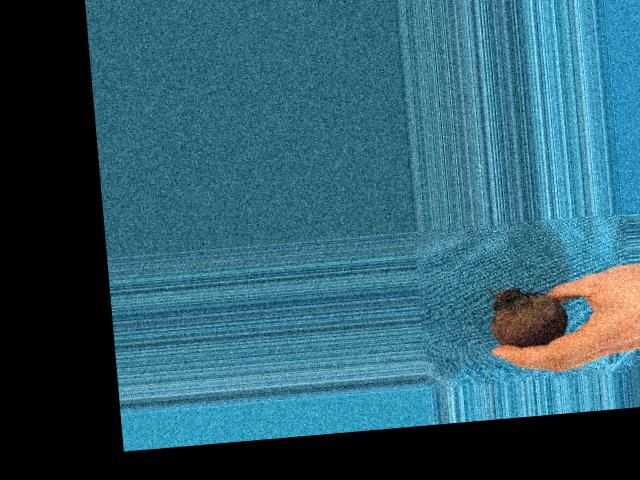beet: (487, 282, 568, 349)
